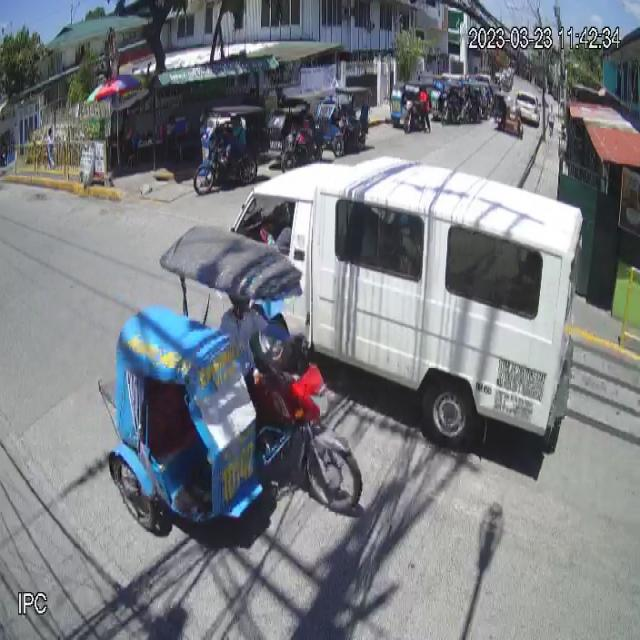Tricycle: (104, 221, 361, 538)
Van: (227, 152, 580, 456)
